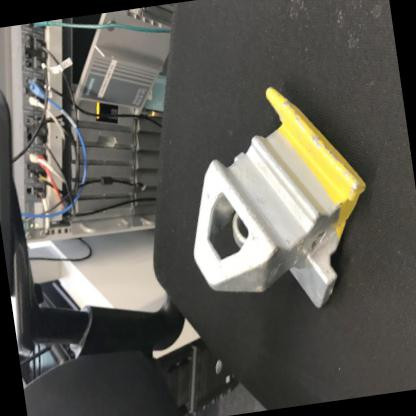Twistlock: (166, 66, 387, 335)
